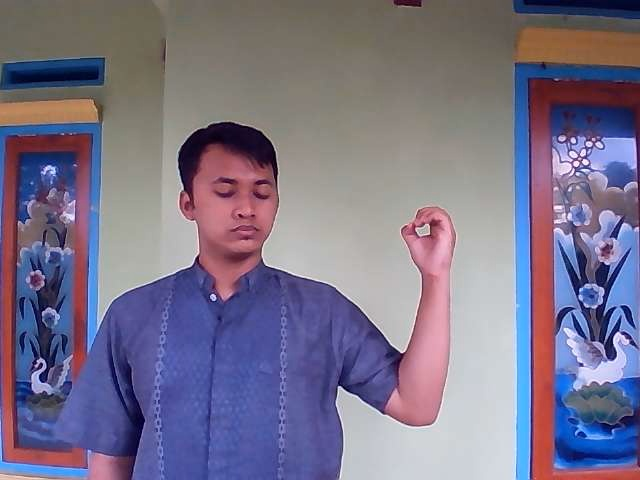O: (397, 202, 462, 285)
